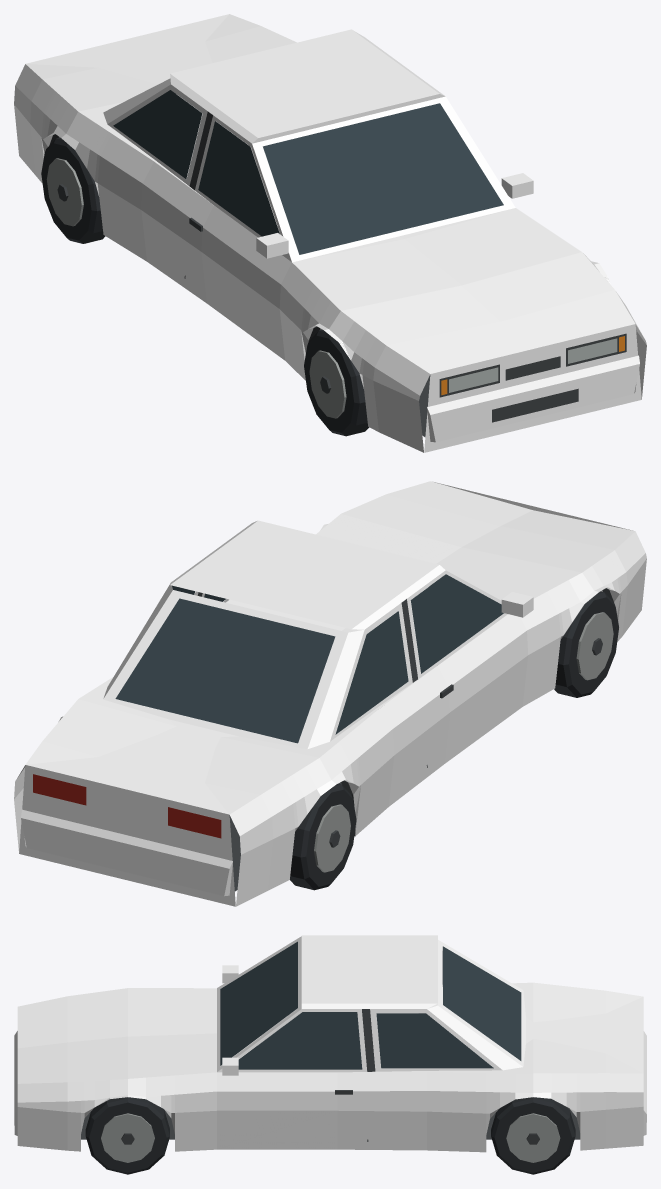
The model's file is whitlock_granite_99.glb.
The picture shows the model from 3 angles, top to bottom: view 1: azimuth 30°, elevation 25°; view 2: azimuth 150°, elevation 25°; view 3: azimuth 270°, elevation 25°; orthographic projection. The views are drawn at different scales.
Visible parts, largest first — view 1: whitlock_granite_99; view 2: whitlock_granite_99; view 3: whitlock_granite_99.
Boxes of the visible parts, x1,y1,x2,y2 form: whitlock_granite_99: (14, 14, 646, 452); whitlock_granite_99: (14, 481, 646, 906); whitlock_granite_99: (14, 935, 646, 1174).
Size of the model in its own units: 1.79 by 1.26 by 4.62.
Materials: 8 (1 with a texture image).
